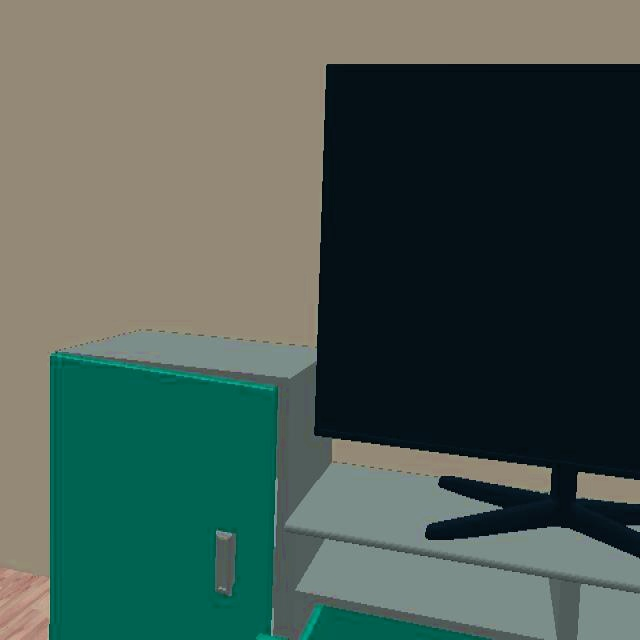cabinet: (50, 331, 640, 640)
monitor: (313, 63, 640, 561)
